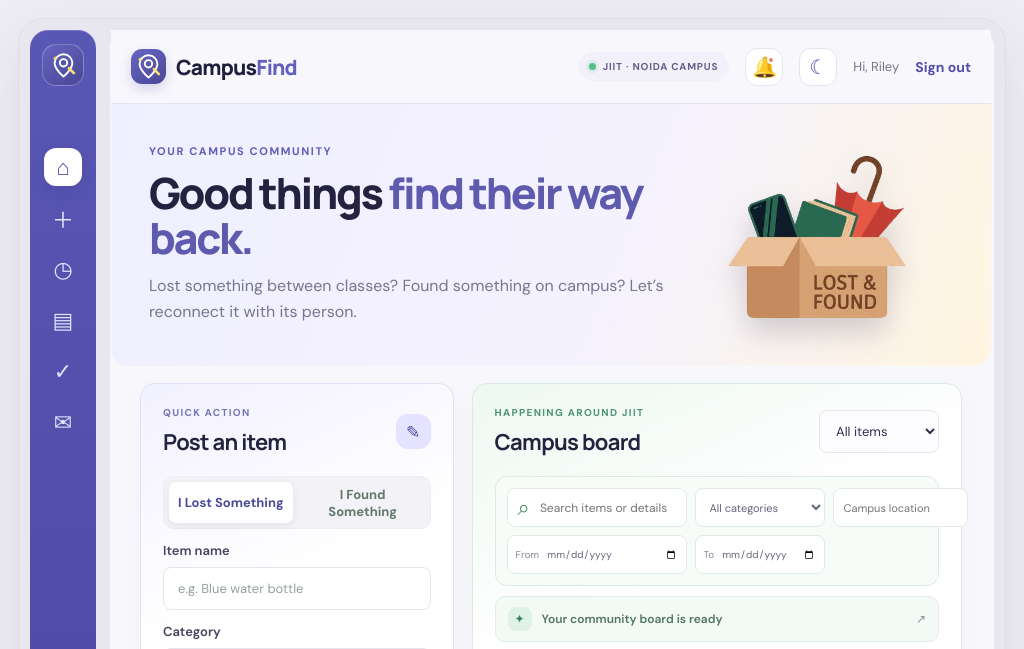
Scenario: CampusFind board › opens a private conversation from a new-message notification
Click the button named "Notifications, 1 unread" at (764, 66), box 745,48 -> 783,86
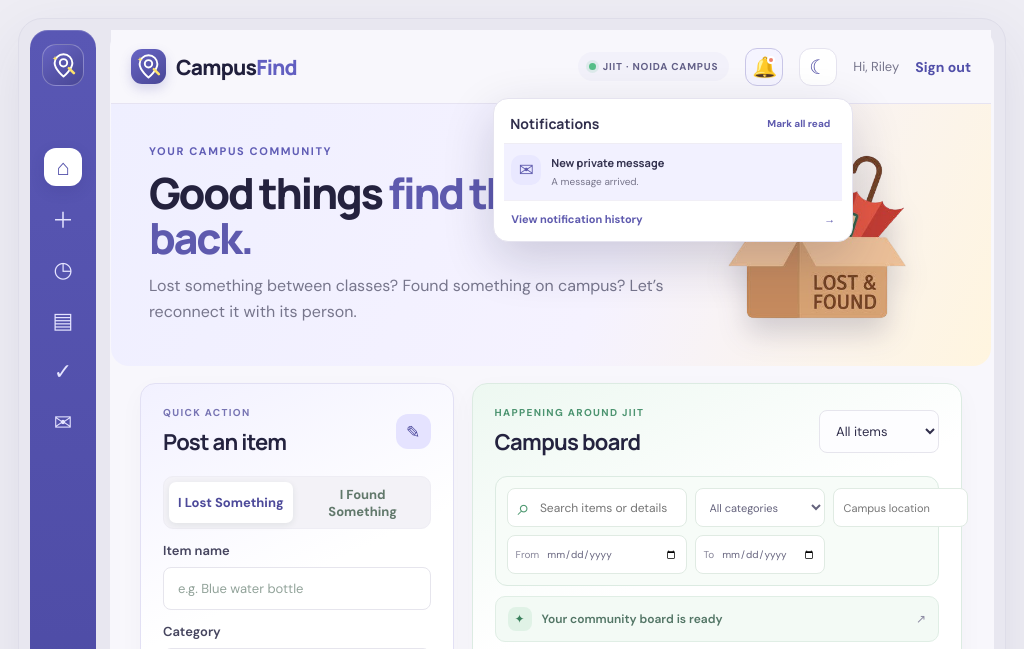
Click the button "✉ New private message A message arrived." at (608, 162), box 504,144 -> 842,200
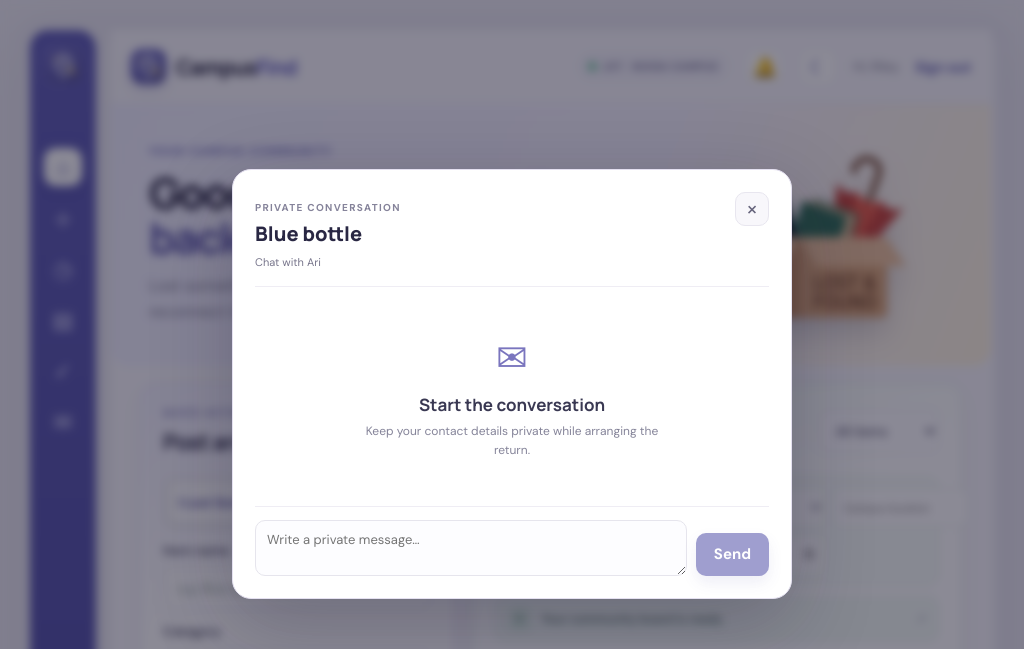
Now the text box named "Write a message" is shown, box 255,520 -> 687,576
Now the heading "Blue bottle" is shown, box 255,220 -> 362,247
